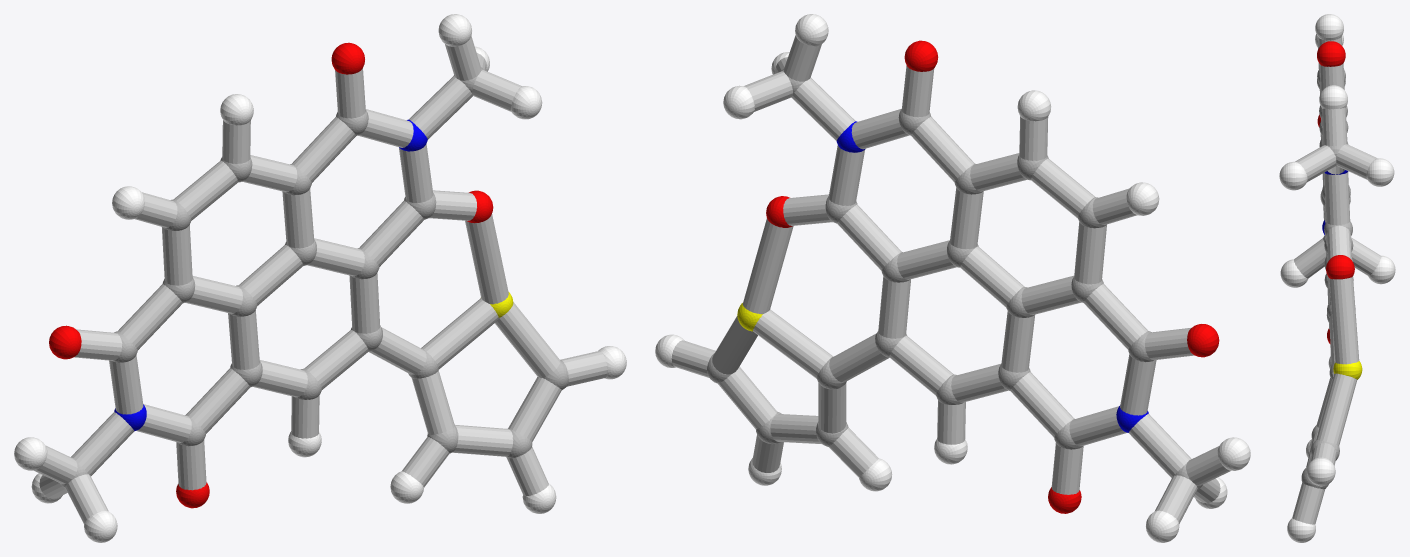
File: Dimethyl_Naphthalene_Dicarboximide_Phi_15_Theta_170_Thiophene.glb
The picture shows the model from 3 angles, left to right: view 1: azimuth 30°, elevation 25°; view 2: azimuth 150°, elevation 25°; view 3: azimuth 270°, elevation 25°; orthographic projection. The views are drawn at different scales.
Visible parts, largest first — view 1: grp14119, grp7241, grp1, grp12309, grp11585; view 2: grp14119, grp7241, grp1, grp12309, grp11585; view 3: grp14119, grp7241, grp12309, grp1, grp13757.
Boxes of the visible parts, x1,y1,x2,y2 form: grp14119: [34, 36, 607, 523]; grp7241: [14, 14, 626, 542]; grp1: [60, 67, 568, 488]; grp12309: [49, 42, 493, 508]; grp11585: [114, 119, 427, 431]; grp14119: [671, 35, 1230, 523]; grp7241: [655, 14, 1250, 542]; grp1: [707, 69, 1202, 490]; grp12309: [766, 40, 1219, 513]; grp11585: [836, 121, 1148, 432]; grp14119: [1292, 36, 1381, 524]; grp7241: [1279, 14, 1395, 542]; grp12309: [1317, 41, 1354, 343]; grp1: [1301, 69, 1355, 489]; grp13757: [1333, 361, 1362, 379].
Bounding box in the file's own units: 12.33 × 9.8 × 2.41.
